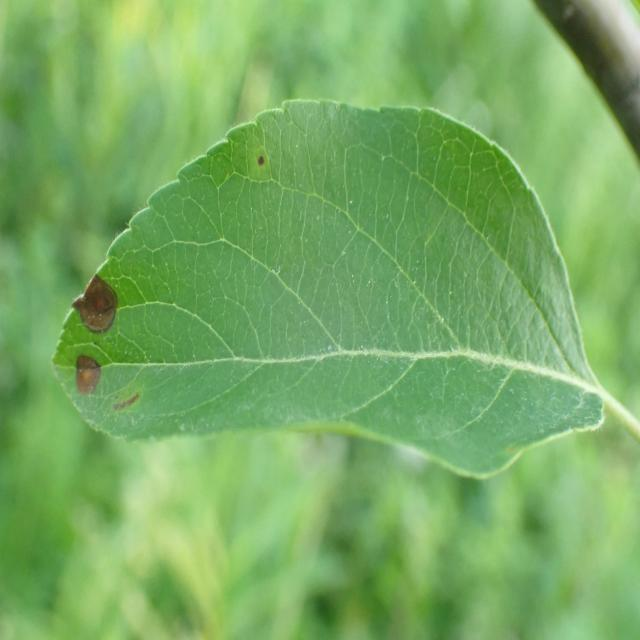Black Rot: (62, 332, 118, 410), (98, 382, 158, 452), (64, 271, 123, 337), (242, 144, 267, 191)
